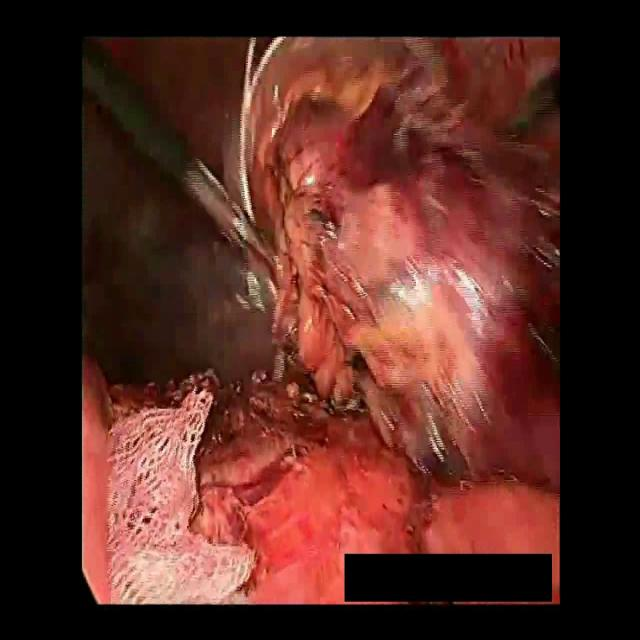surgical-area: (81, 36, 562, 604)
surgical-tool: (81, 54, 278, 282)
